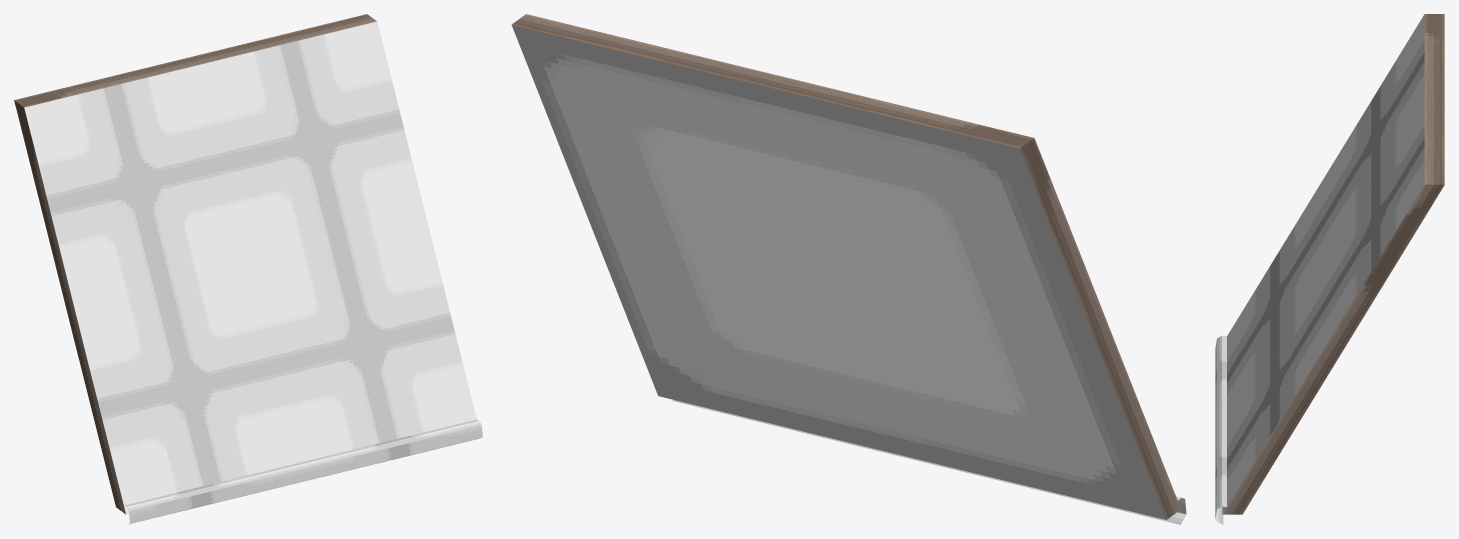
File: SM_Roof_03.fbx
The picture shows the model from 3 angles, left to right: view 1: azimuth 30°, elevation 25°; view 2: azimuth 150°, elevation 25°; view 3: azimuth 270°, elevation 25°; orthographic projection. The views are drawn at different scales.
Parts seen in each view (by area): view 1: SM_Roof_03_LOD0; view 2: SM_Roof_03_LOD0; view 3: SM_Roof_03_LOD0.
Boxes of the visible parts, left/top/right/bottom form: SM_Roof_03_LOD0: left=14, top=14, right=482, bottom=524; SM_Roof_03_LOD0: left=511, top=14, right=1186, bottom=524; SM_Roof_03_LOD0: left=1215, top=14, right=1444, bottom=524.
Size of the model in its own units: 1000 by 568 by 929.
